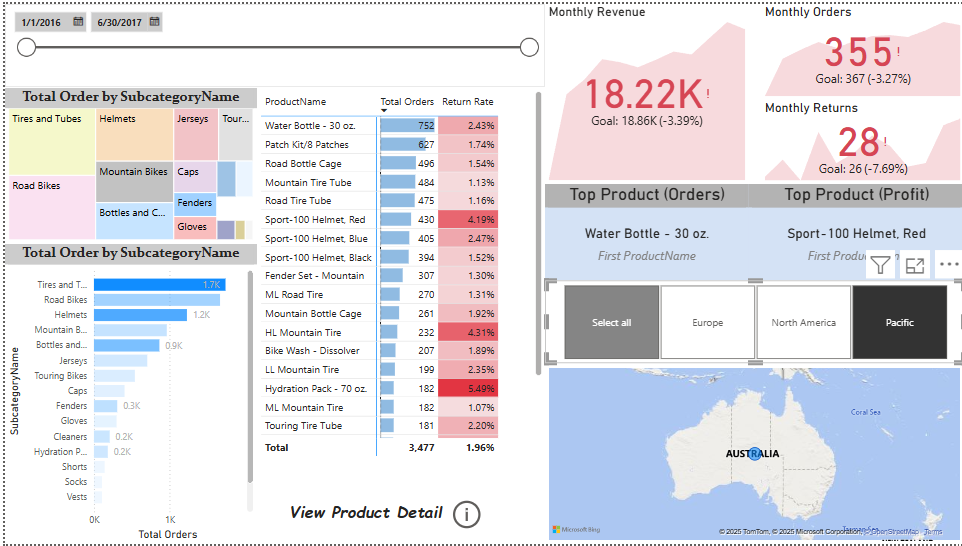

The dashboard page shown, as its layout file describes it:
{"tool":"powerbi","page":{"name":"Exec Summary","canvas":[1280,720],"ordinal":0},"visuals":[{"type":"barChart","title":"Total Order by SubcategoryName","fields":{"Y":["AW_Sales_2015-2017.Total Orders"],"Category":["AW_Product_Subcategories.SubcategoryName"]},"box":[0,320,336,400],"z":1000},{"type":"treemap","title":"Total Order by SubcategoryName","fields":{"Group":["AW_Product_Categories.CategoryName","AW_Product_Subcategories.SubcategoryName"],"Values":["AW_Sales_2015-2017.Total Orders"]},"box":[0,112,336,208],"z":2000},{"type":"pivotTable","fields":{"Values":["AW_Sales_2015-2017.Total Orders","AW_Returns.Return Rate"],"Rows":["AW_Product_Categories.CategoryName","AW_Product_Subcategories.SubcategoryName","AW_Products.ProductName"]},"box":[336,112,384,496],"z":3000},{"type":"slicer","fields":{"Values":["AW_Calendar.Date"]},"box":[0,0,720,112],"z":4000},{"type":"kpi","title":"Monthly Revenue","fields":{"Indicator":["AW_Sales_2015-2017.Total_Revenue"],"TrendLine":["AW_Calendar.Start of Month"],"Goal":["AW_Sales_2015-2017.Prev Month Revenue"]},"box":[720,0,272,240],"z":5000},{"type":"kpi","title":"Monthly Orders","fields":{"TrendLine":["AW_Calendar.Start of Month"],"Indicator":["AW_Sales_2015-2017.Total Orders"],"Goal":["AW_Sales_2015-2017.Prev Month orders"]},"box":[1008,0,272,128],"z":6000},{"type":"kpi","title":"Monthly Returns","fields":{"TrendLine":["AW_Calendar.Start of Month"],"Goal":["AW_Returns.Prev Month Returns"],"Indicator":["AW_Returns.Total Returns"]},"box":[1008,128,272,112],"z":7000},{"type":"card","title":"Top Product (Orders)","fields":{"Values":["Min(AW_Products.ProductName)"]},"box":[720,240,272,128],"z":8000},{"type":"card","title":"Top Product (Profit)","fields":{"Values":["Min(AW_Products.ProductName)"]},"box":[992,240,288,128],"z":9000},{"type":"map","fields":{"Category":["AW_Territories.Country"],"Size":["AW_Sales_2015-2017.Total Orders"]},"box":[720,480,560,240],"z":10000},{"type":"slicer","fields":{"Values":["AW_Territories.Continent"]},"box":[720,368,560,112],"z":11000},{"type":"textbox","box":[336,656,288,48],"z":12000},{"type":"actionButton","box":[592,656,48,48],"z":13000}]}

Visuals, with their boxes in screenshot pixels (x1, y1, x2, y2), scaled from the page's 1280x720 canvas onto the 962x546 screenshot:
"Total Order by SubcategoryName" barChart: {"x1": 0, "y1": 243, "x2": 253, "y2": 545}
"Total Order by SubcategoryName" treemap: {"x1": 0, "y1": 85, "x2": 253, "y2": 243}
pivotTable - AW_Sales_2015-2017.Total Orders x AW_Returns.Return Rate: {"x1": 253, "y1": 85, "x2": 541, "y2": 461}
slicer - AW_Calendar.Date: {"x1": 0, "y1": 0, "x2": 541, "y2": 85}
"Monthly Revenue" kpi: {"x1": 541, "y1": 0, "x2": 746, "y2": 182}
"Monthly Orders" kpi: {"x1": 758, "y1": 0, "x2": 961, "y2": 97}
"Monthly Returns" kpi: {"x1": 758, "y1": 97, "x2": 961, "y2": 182}
"Top Product (Orders)" card: {"x1": 541, "y1": 182, "x2": 746, "y2": 279}
"Top Product (Profit)" card: {"x1": 746, "y1": 182, "x2": 961, "y2": 279}
map - AW_Territories.Country x AW_Sales_2015-2017.Total Orders: {"x1": 541, "y1": 364, "x2": 961, "y2": 545}
slicer - AW_Territories.Continent: {"x1": 541, "y1": 279, "x2": 961, "y2": 364}
textbox: {"x1": 253, "y1": 497, "x2": 469, "y2": 534}
actionButton: {"x1": 445, "y1": 497, "x2": 481, "y2": 534}
